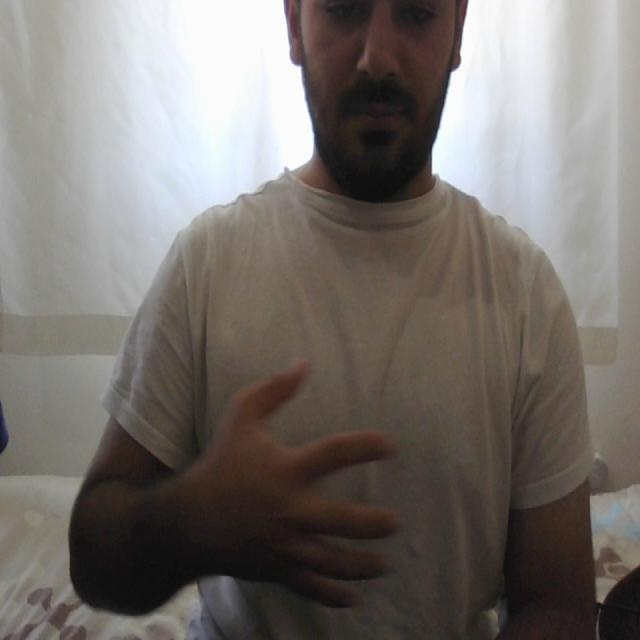Anne: (167, 357, 537, 610)
